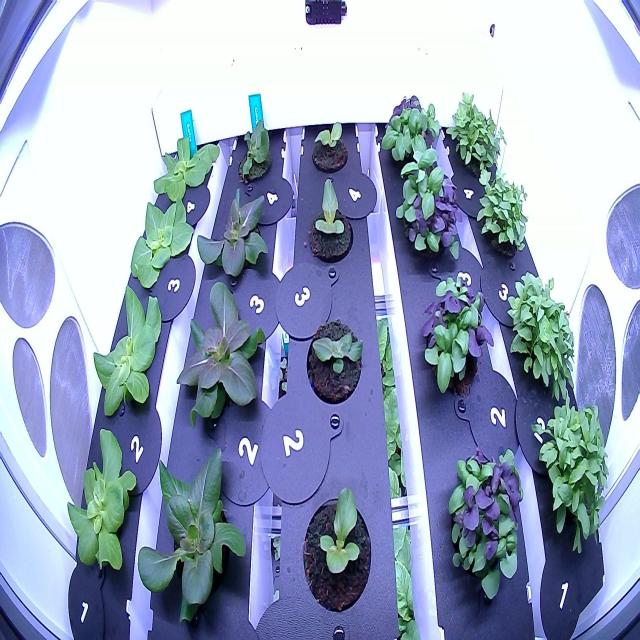young: (131, 444, 258, 636), (169, 270, 271, 438), (61, 422, 144, 582), (85, 275, 169, 424), (294, 476, 380, 616), (194, 178, 278, 294), (123, 185, 200, 297), (146, 119, 222, 214), (297, 312, 367, 414), (301, 171, 358, 269), (230, 112, 277, 194), (305, 113, 352, 180)
